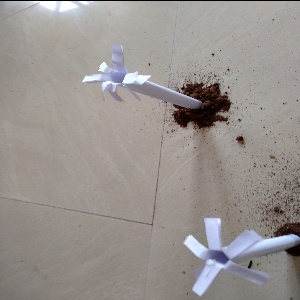weed: (82, 41, 214, 124), (182, 209, 299, 300)
